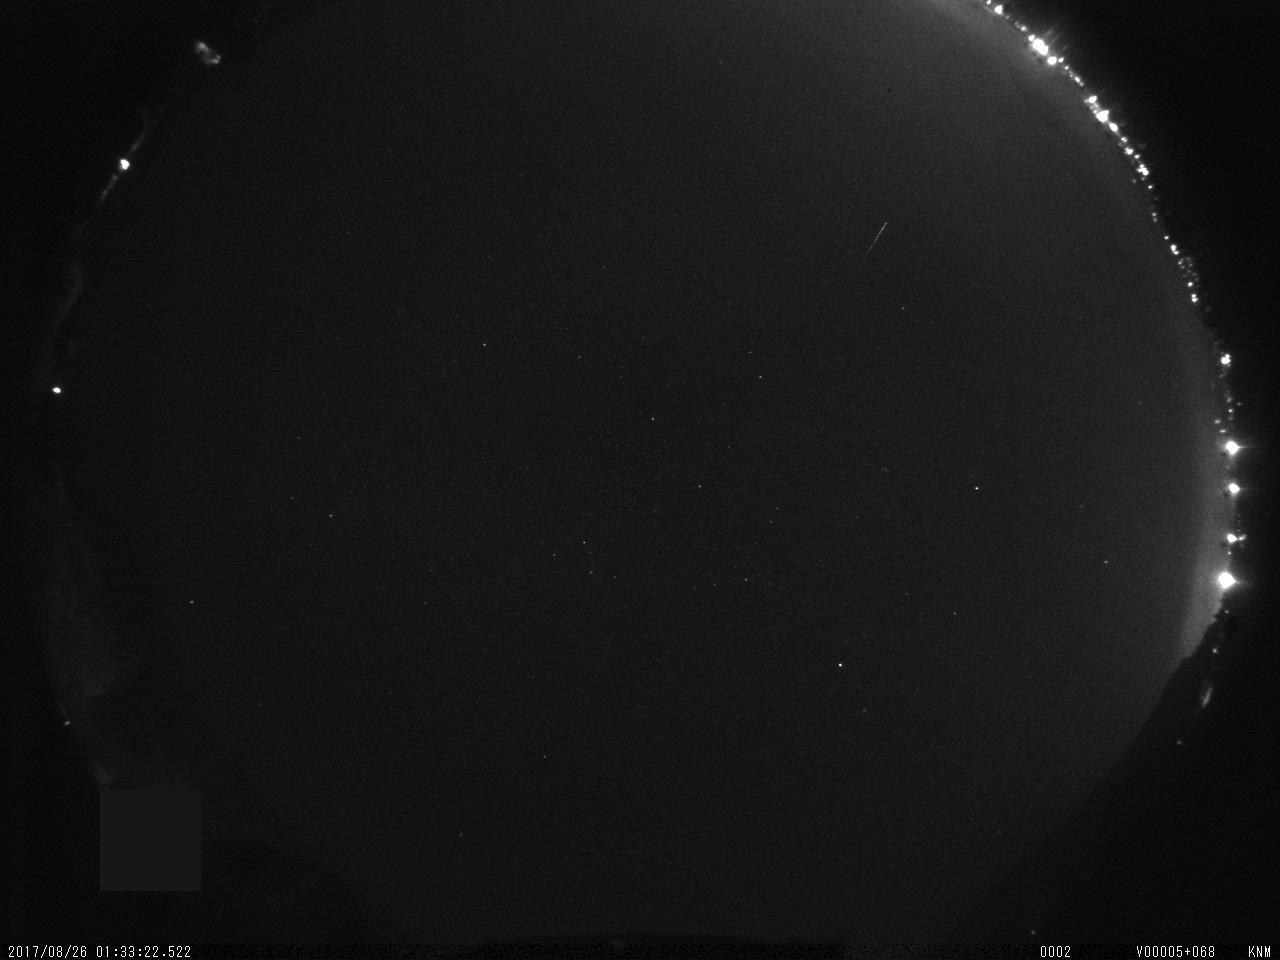meteor: (863, 216, 891, 263)
